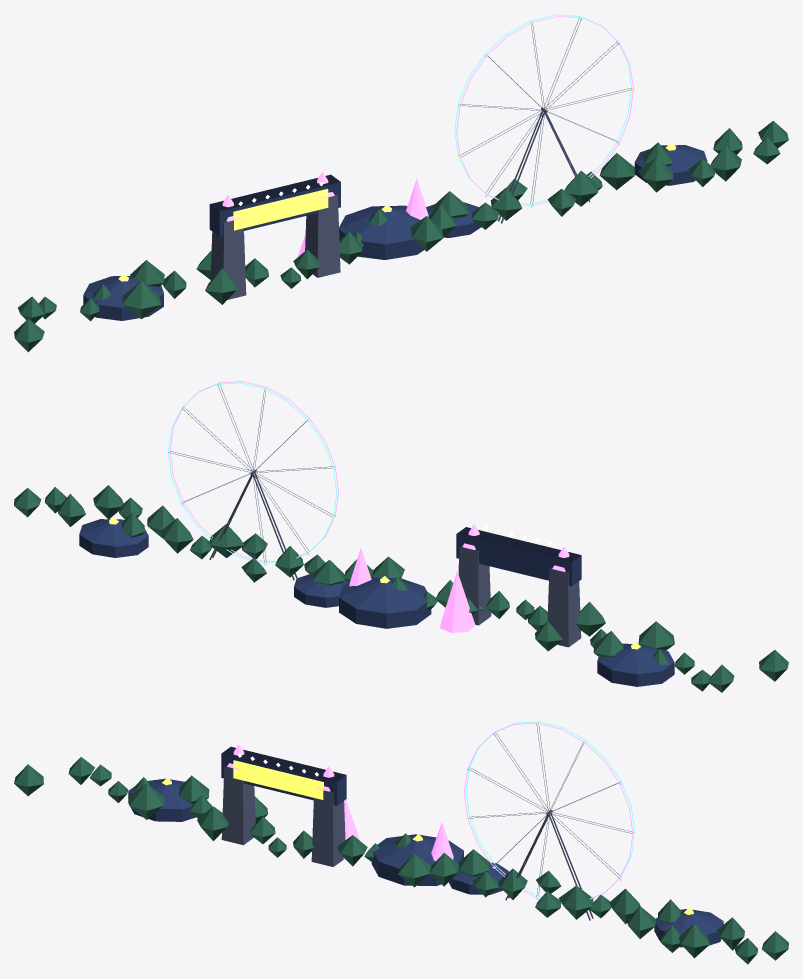
File: W1_Far_Zoo.fbx
3 views of the same model, one above another, from view 1: azimuth 30°, elevation 25°; view 2: azimuth 150°, elevation 25°; view 3: azimuth 330°, elevation 25° (orthographic). The views are drawn at different scales.
Parts seen in each view (by area): view 1: W1_Far_Zoo; view 2: W1_Far_Zoo; view 3: W1_Far_Zoo.
Part boxes in pixels (x1=…): W1_Far_Zoo: x1=14, y1=14, x2=788, y2=352; W1_Far_Zoo: x1=14, y1=381, x2=788, y2=692; W1_Far_Zoo: x1=14, y1=721, x2=788, y2=964.
Bounding box in the file's own units: 376 × 87.8 × 45.18.
